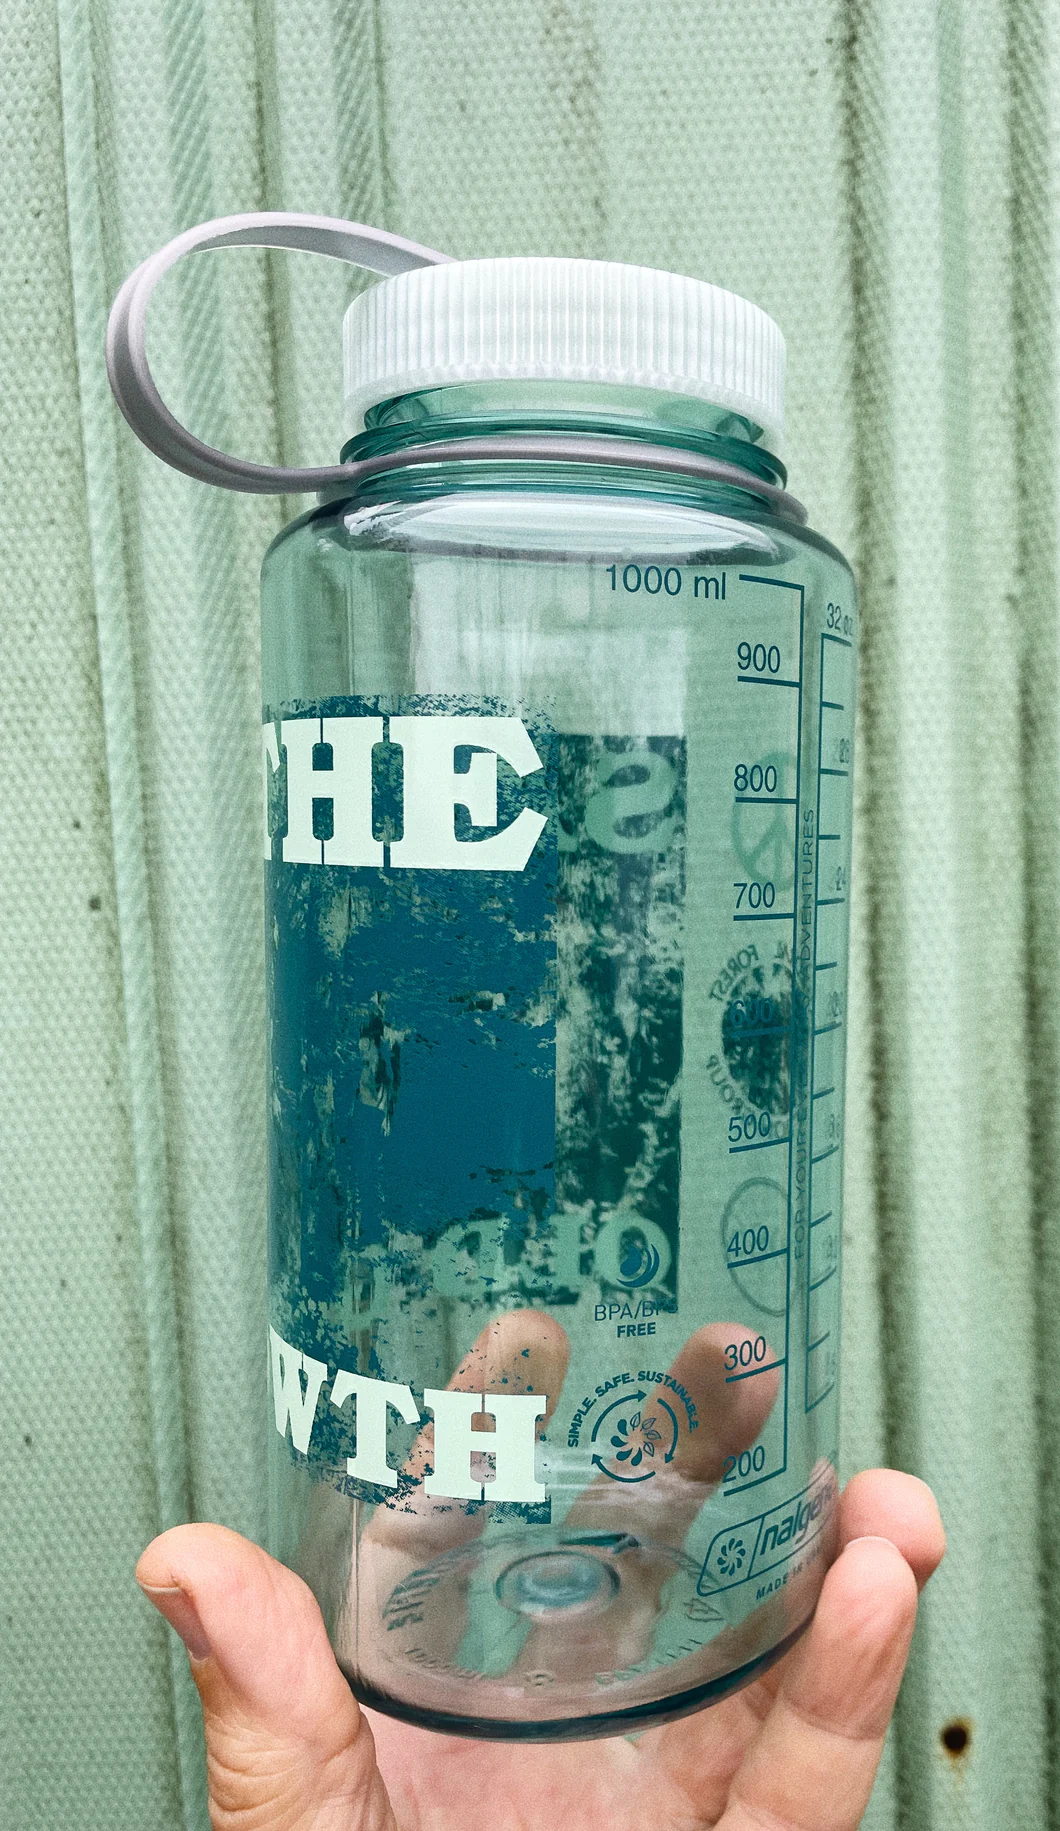bottle: (50, 103, 438, 872)
